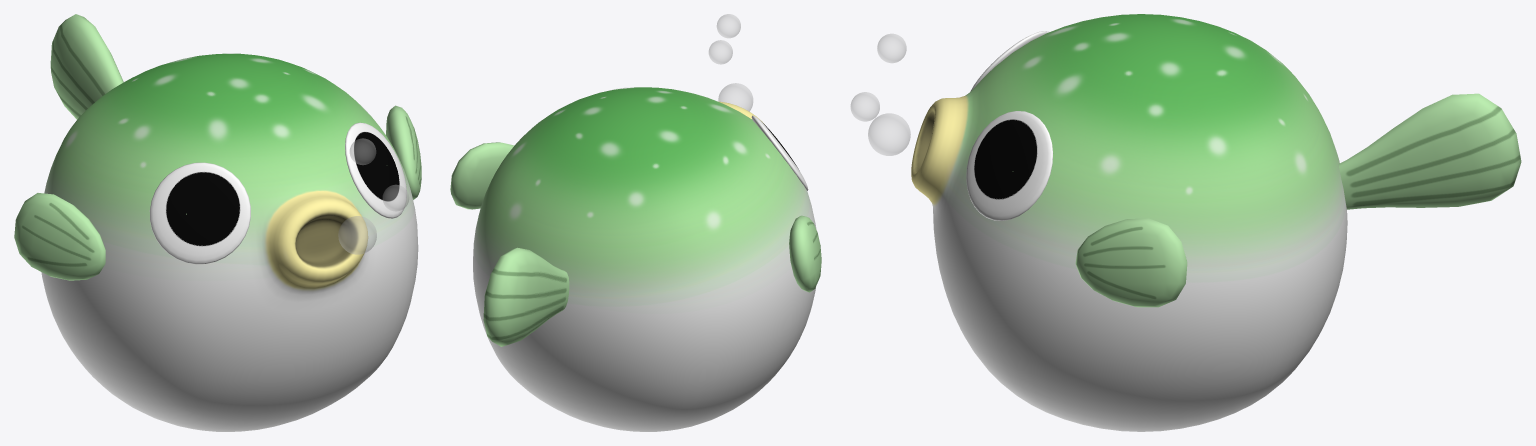
File: fish-hugu.glb
3 views of the same model, side by side, from view 1: azimuth 30°, elevation 25°; view 2: azimuth 150°, elevation 25°; view 3: azimuth 270°, elevation 25° (orthographic). The views are drawn at different scales.
Visible parts, largest first — view 1: hugu_Body, hugu_Eyes, hugu_Fin_Side, hugu_Fin_Tail, hugu_Bubble; view 2: hugu_Body, hugu_Fin_Tail, hugu_Fin_Side, hugu_Bubble, hugu_Eyes; view 3: hugu_Body, hugu_Fin_Tail, hugu_Eyes, hugu_Fin_Side, hugu_Bubble.
Boxes of the visible parts, box(x1,y1,x2,y2) form: hugu_Body: box(41, 53, 418, 431); hugu_Eyes: box(149, 122, 406, 264); hugu_Fin_Side: box(14, 105, 421, 280); hugu_Fin_Tail: box(50, 14, 123, 119); hugu_Bubble: box(338, 138, 408, 254); hugu_Body: box(473, 87, 816, 431); hugu_Fin_Tail: box(483, 247, 569, 346); hugu_Fin_Side: box(450, 142, 821, 292); hugu_Bubble: box(709, 14, 752, 111); hugu_Eyes: box(608, 87, 808, 190); hugu_Body: box(911, 14, 1347, 431); hugu_Fin_Tail: box(1338, 93, 1521, 209); hugu_Eyes: box(966, 31, 1053, 220); hugu_Fin_Side: box(1075, 218, 1187, 307); hugu_Bubble: box(850, 34, 910, 155).
Size of the model in its own units: 1.96 by 1.66 by 2.61.
4 materials, 3 textured.
